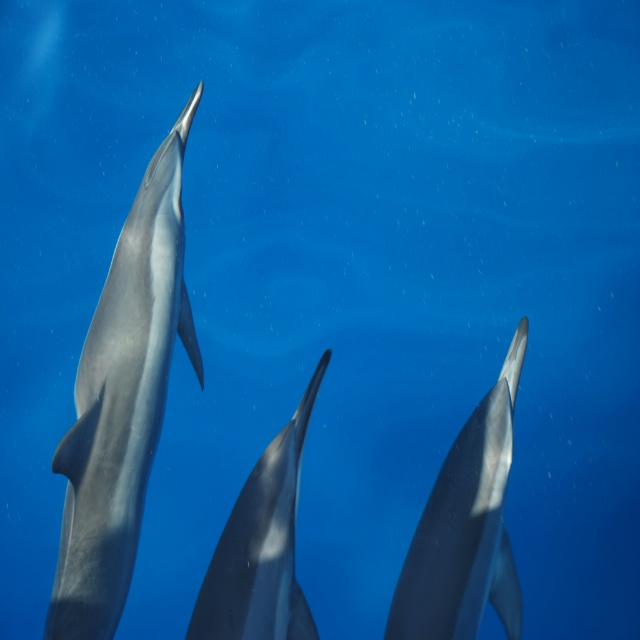Fish: (41, 80, 205, 640), (381, 315, 528, 640), (185, 349, 332, 640)
